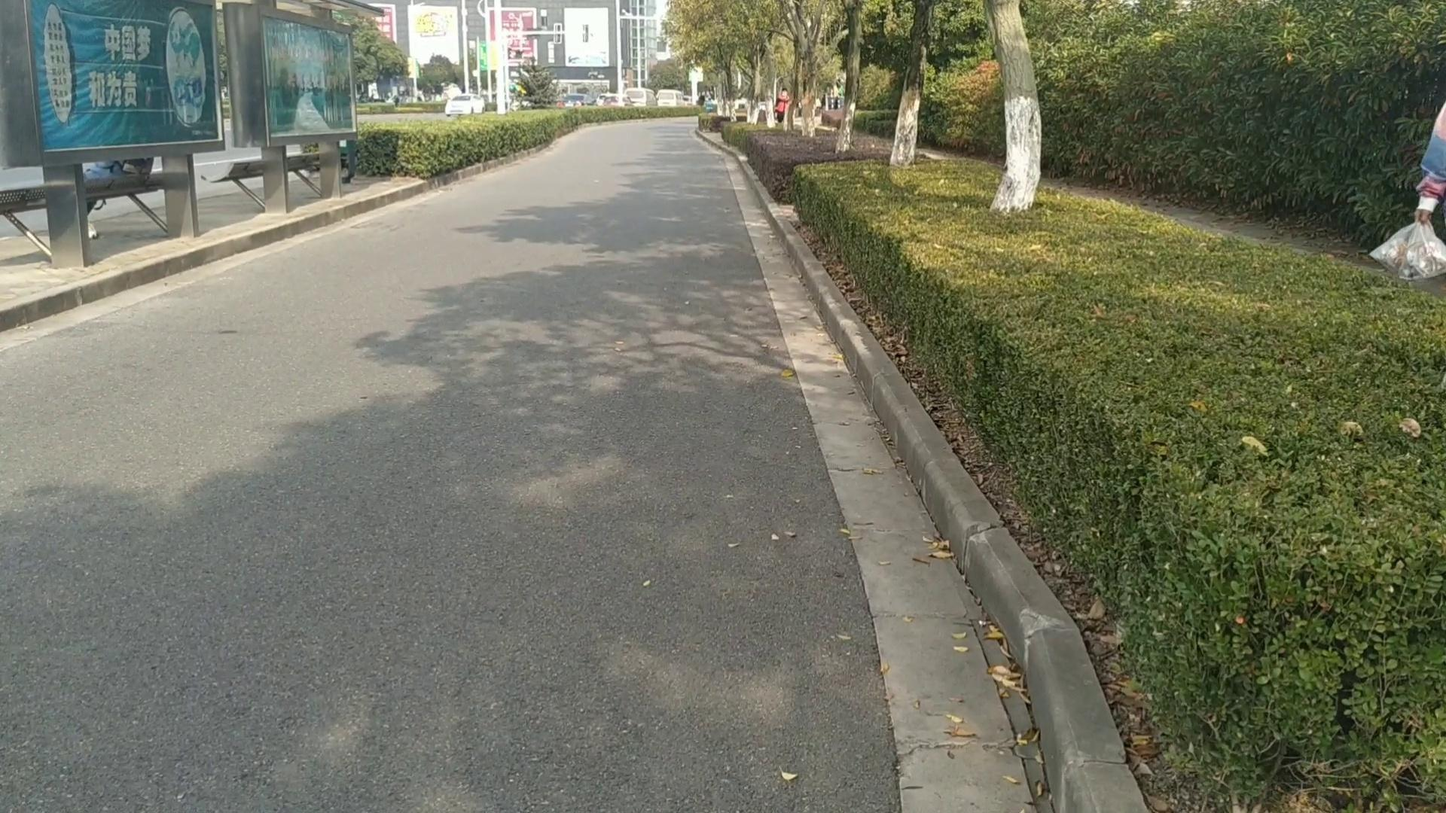car: (444, 91, 484, 118), (555, 93, 594, 108)
